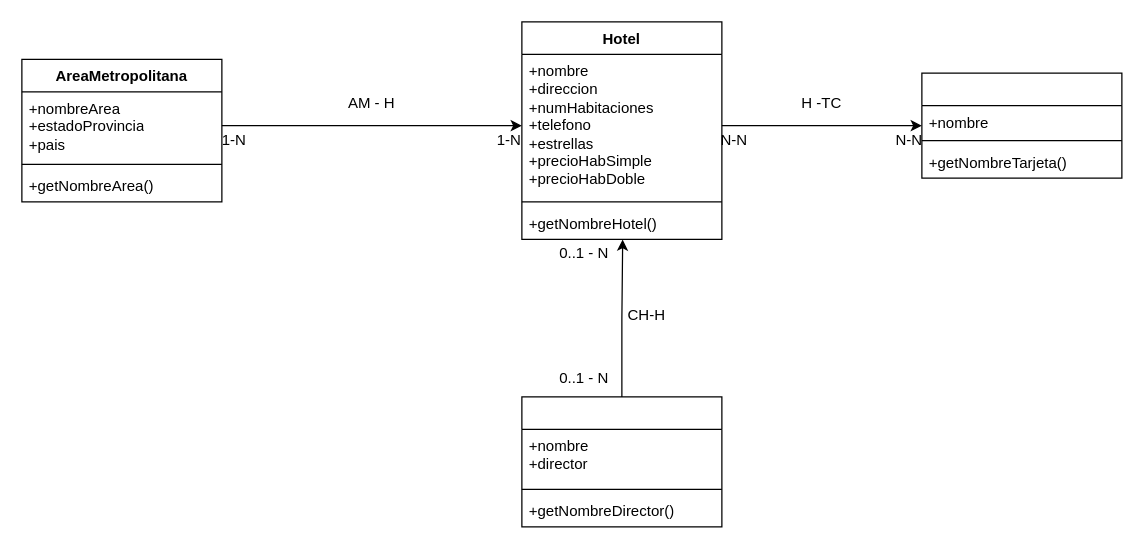
Image size: 1144x553. Some labels were removed from this diagram. The shapes that lost their labels are listed below. From the top down, each one's box as (x1, y1, x2, y2) in pixels, then its label:
(921, 72, 1122, 178): TarjetaCredito
(521, 396, 722, 527): CadenaHotelera
